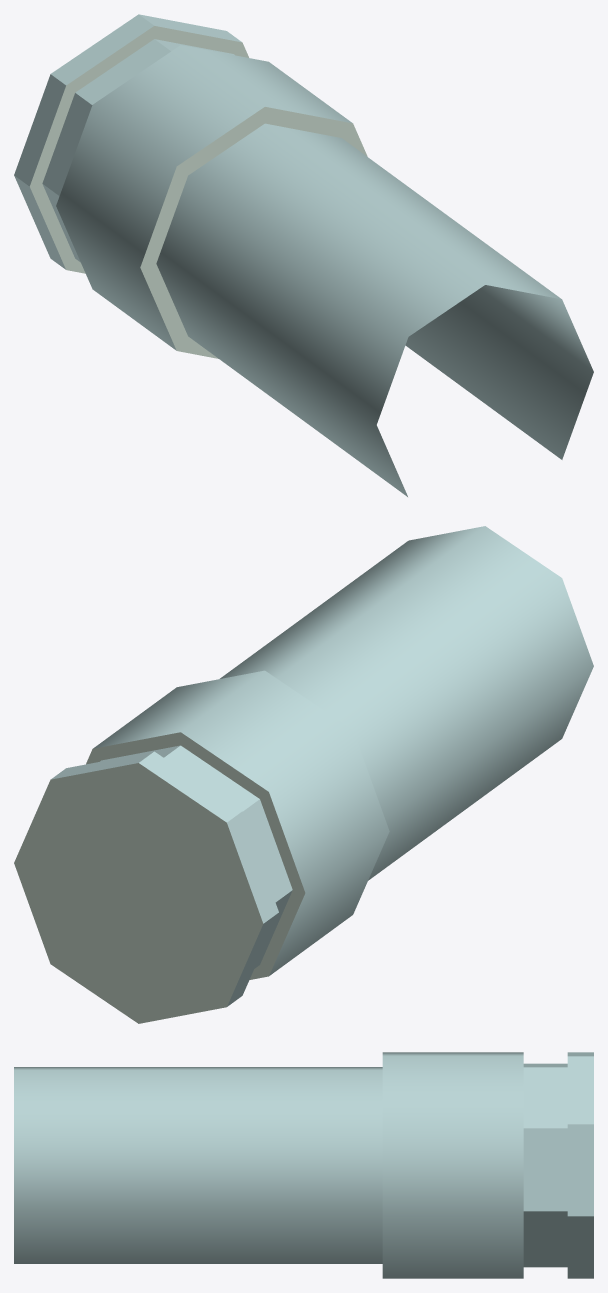
3 views of the same model, one above another, from view 1: azimuth 30°, elevation 25°; view 2: azimuth 150°, elevation 25°; view 3: azimuth 270°, elevation 25° (orthographic). The views are drawn at different scales.
Visible parts, largest first — view 1: Object62; view 2: Object62; view 3: Object62.
Part boxes in pixels (x1,y1,x2,y2): Object62: (14,14,593,496); Object62: (14,526,593,1023); Object62: (14,1052,593,1278).
Bounding box in the file's own units: 85.1 × 85.1 × 205.
